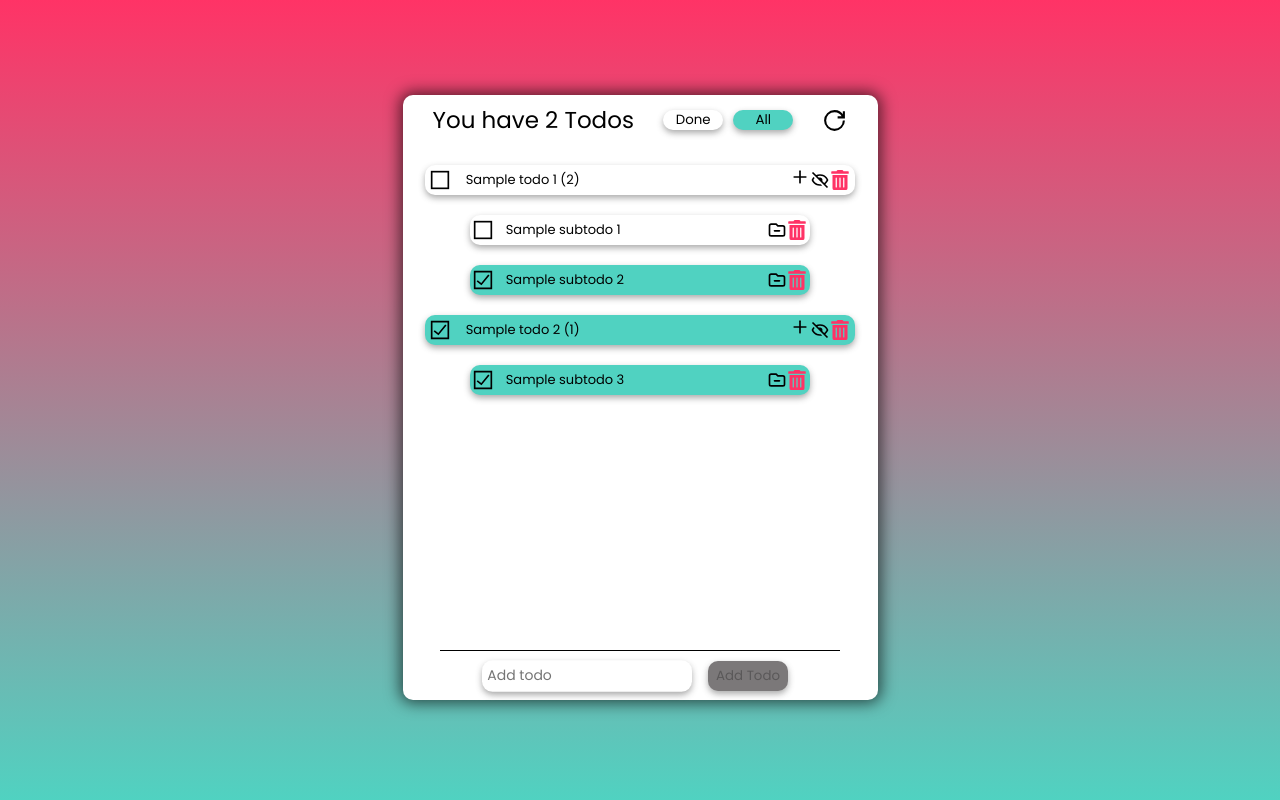
it: Add new todo functionality › Adds a new todo
Click the icon with class "reset" at (836, 121), box [823, 108, 848, 133]
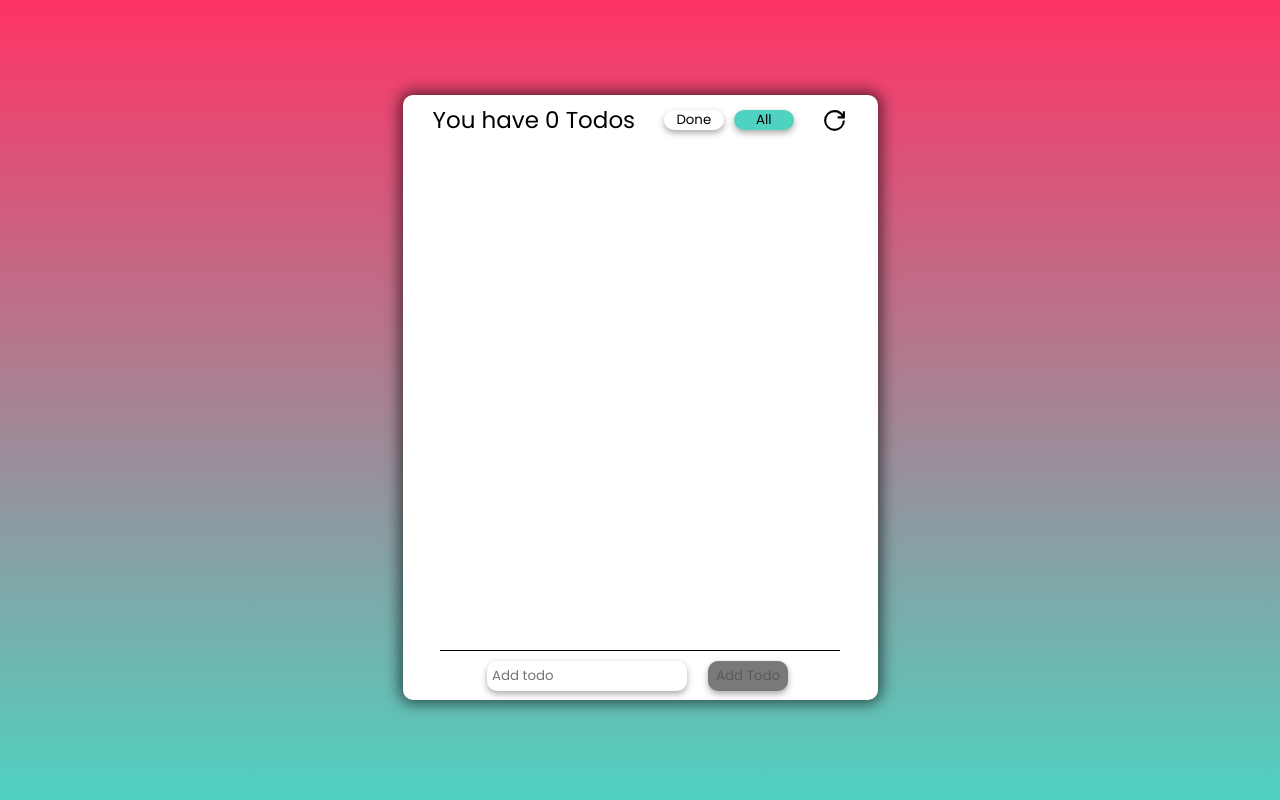
Now the list item with test id "todoLi" is gone
Type "Sample todo 1" into the field with class "todoName" at (587, 676), box [487, 661, 687, 691]
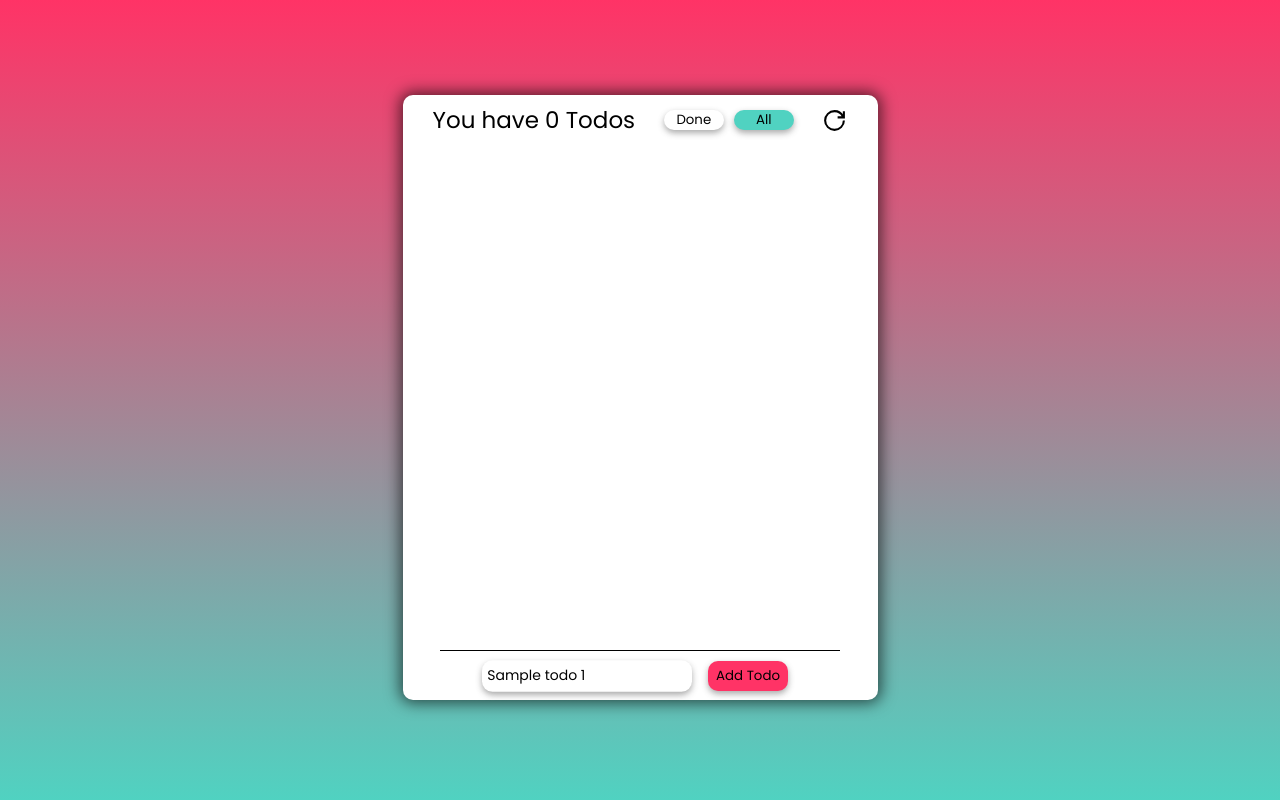
Click the button with class "submitBtn" at (748, 676), box [708, 661, 788, 691]
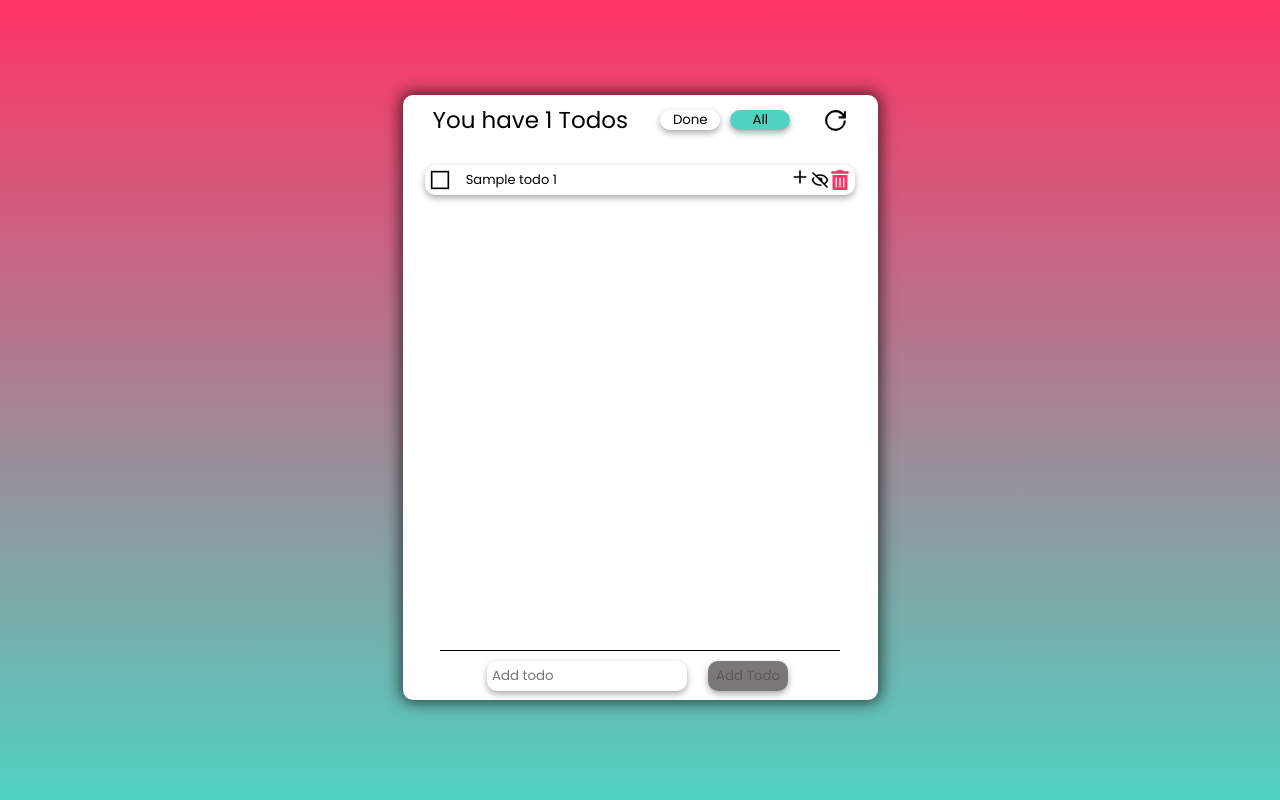
Now the number of list items with test id "todoLi" is 1, box [425, 165, 855, 195]
